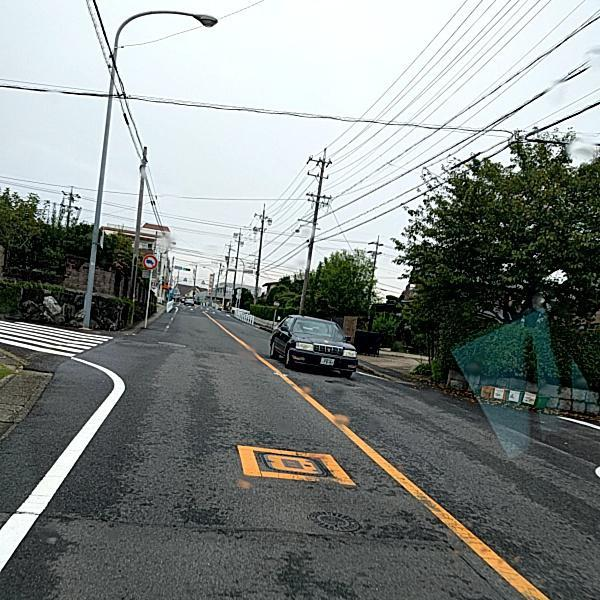D50: (305, 508, 362, 534)
